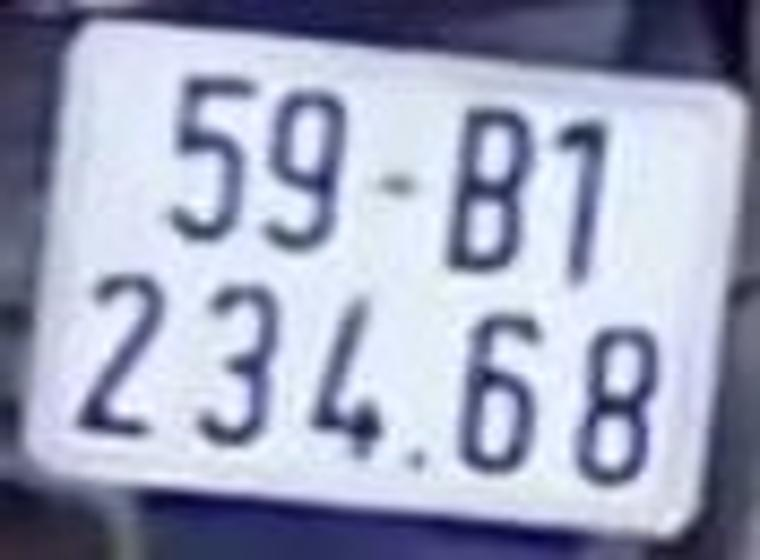-: (369, 165, 417, 193)
.: (399, 436, 431, 484)
1: (549, 109, 610, 289)
2: (74, 268, 163, 434)
3: (201, 276, 277, 442)
4: (303, 304, 391, 457)
5: (169, 76, 255, 239)
6: (454, 297, 542, 476)
8: (567, 315, 657, 483)
9: (261, 79, 356, 254)
B: (442, 97, 534, 276)
